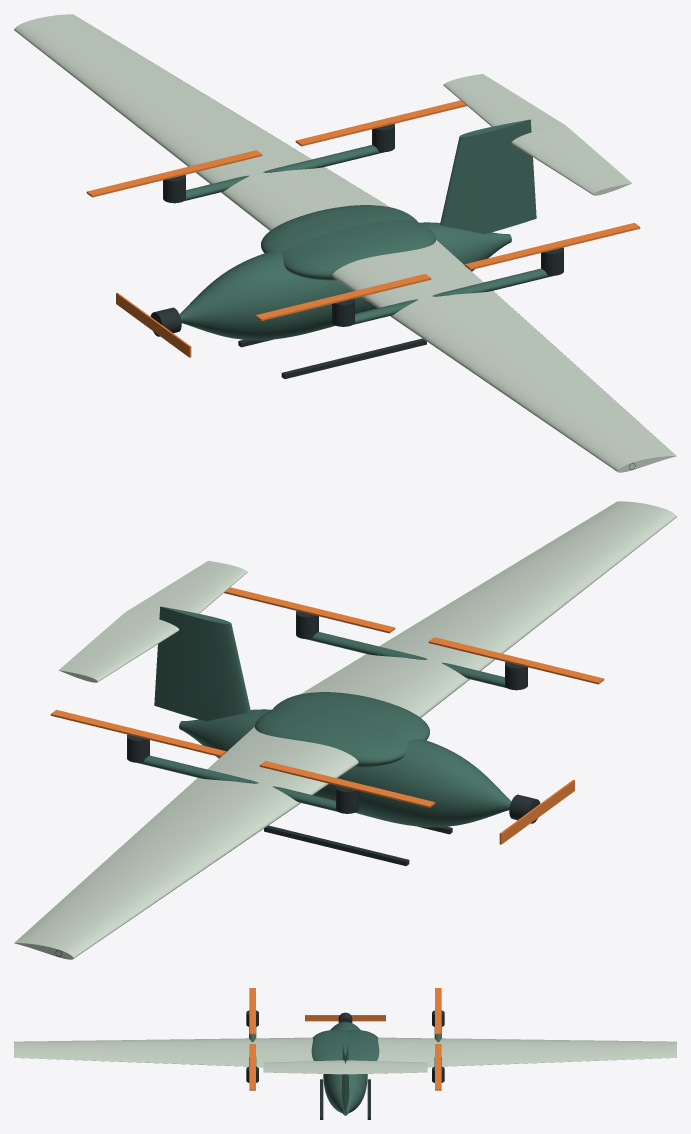
The model's file is surface_tools-03-model.glb.
3 renders of one model, top to bottom at view 1: azimuth 30°, elevation 25°; view 2: azimuth 150°, elevation 25°; view 3: azimuth 270°, elevation 25°, orthographic. The views are drawn at different scales.
Parts seen in each view (by area): view 1: wing-1, wing1, fuselage, fin, root_fairing-1, tail-1, root_fairing1, tail1, boom_fairing-1, boom_fairing1, prop_-1_200.0, prop_-1_700.0 (+4 smaller); view 2: wing1, wing-1, fuselage, fin, root_fairing1, tail1, root_fairing-1, tail-1, boom_fairing1, boom_fairing-1, prop_-1_200.0, prop_1_200.0 (+4 smaller); view 3: wing-1, wing1, fuselage, tail-1, tail1, root_fairing-1, root_fairing1, cruise_prop, fin, prop_-1_200.0, prop_-1_700.0, prop_1_200.0 (+1 smaller).
Part boxes in pixels (<box>): wing-1: <box>332,240,676,472</box>; wing1: <box>14,14,390,230</box>; fuselage: <box>179,222,511,340</box>; fin: <box>440,119,536,234</box>; root_fairing-1: <box>282,219,435,280</box>; tail-1: <box>511,125,632,195</box>; root_fairing1: <box>261,205,417,253</box>; tail1: <box>443,73,565,131</box>; boom_fairing-1: <box>353,268,552,324</box>; boom_fairing1: <box>184,145,383,200</box>; prop_-1_200.0: <box>255,274,431,320</box>; prop_-1_700.0: <box>464,223,640,269</box>; wing1: <box>14,727,358,959</box>; wing-1: <box>300,501,676,717</box>; fuselage: <box>179,709,511,827</box>; fin: <box>154,606,250,721</box>; root_fairing1: <box>255,706,408,767</box>; tail1: <box>58,612,179,682</box>; root_fairing-1: <box>273,692,429,740</box>; tail-1: <box>125,560,247,618</box>; boom_fairing1: <box>138,755,337,811</box>; boom_fairing-1: <box>307,632,506,687</box>; prop_-1_200.0: <box>428,637,604,684</box>; prop_1_200.0: <box>259,761,435,807</box>; wing-1: <box>14,1037,313,1067</box>; wing1: <box>377,1037,676,1067</box>; fuselage: <box>323,1021,367,1115</box>; tail-1: <box>263,1060,345,1074</box>; tail1: <box>345,1060,427,1074</box>; root_fairing-1: <box>311,1030,345,1060</box>; root_fairing1: <box>345,1030,379,1060</box>; cruise_prop: <box>305,1015,385,1021</box>; fin: <box>341,1037,349,1113</box>; prop_-1_200.0: <box>249,988,255,1034</box>; prop_-1_700.0: <box>249,1044,255,1090</box>; prop_1_200.0: <box>435,988,441,1034</box>.
Bounding box in the file's own units: 989 × 405 × 2500.
